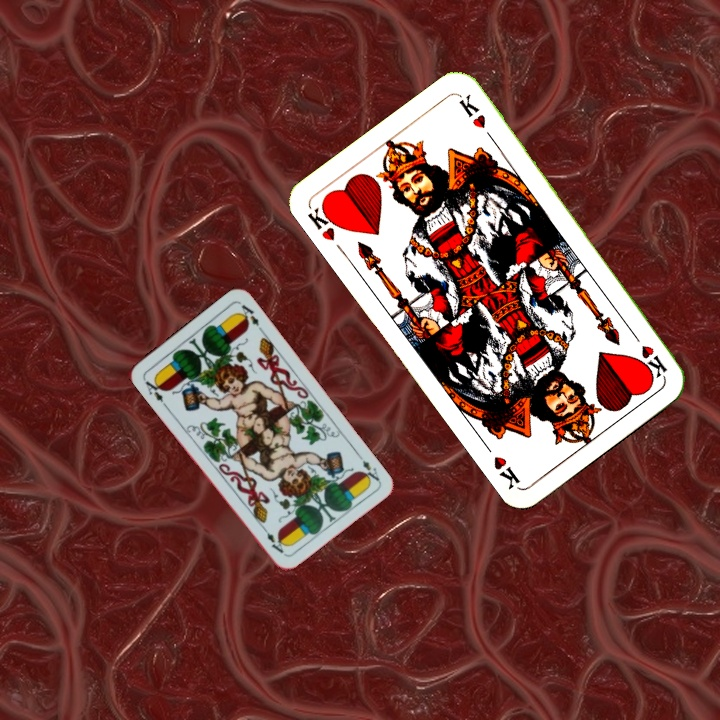EA: (353, 449, 382, 486), (141, 374, 169, 409)
HK: (627, 327, 670, 381), (303, 198, 345, 244)
